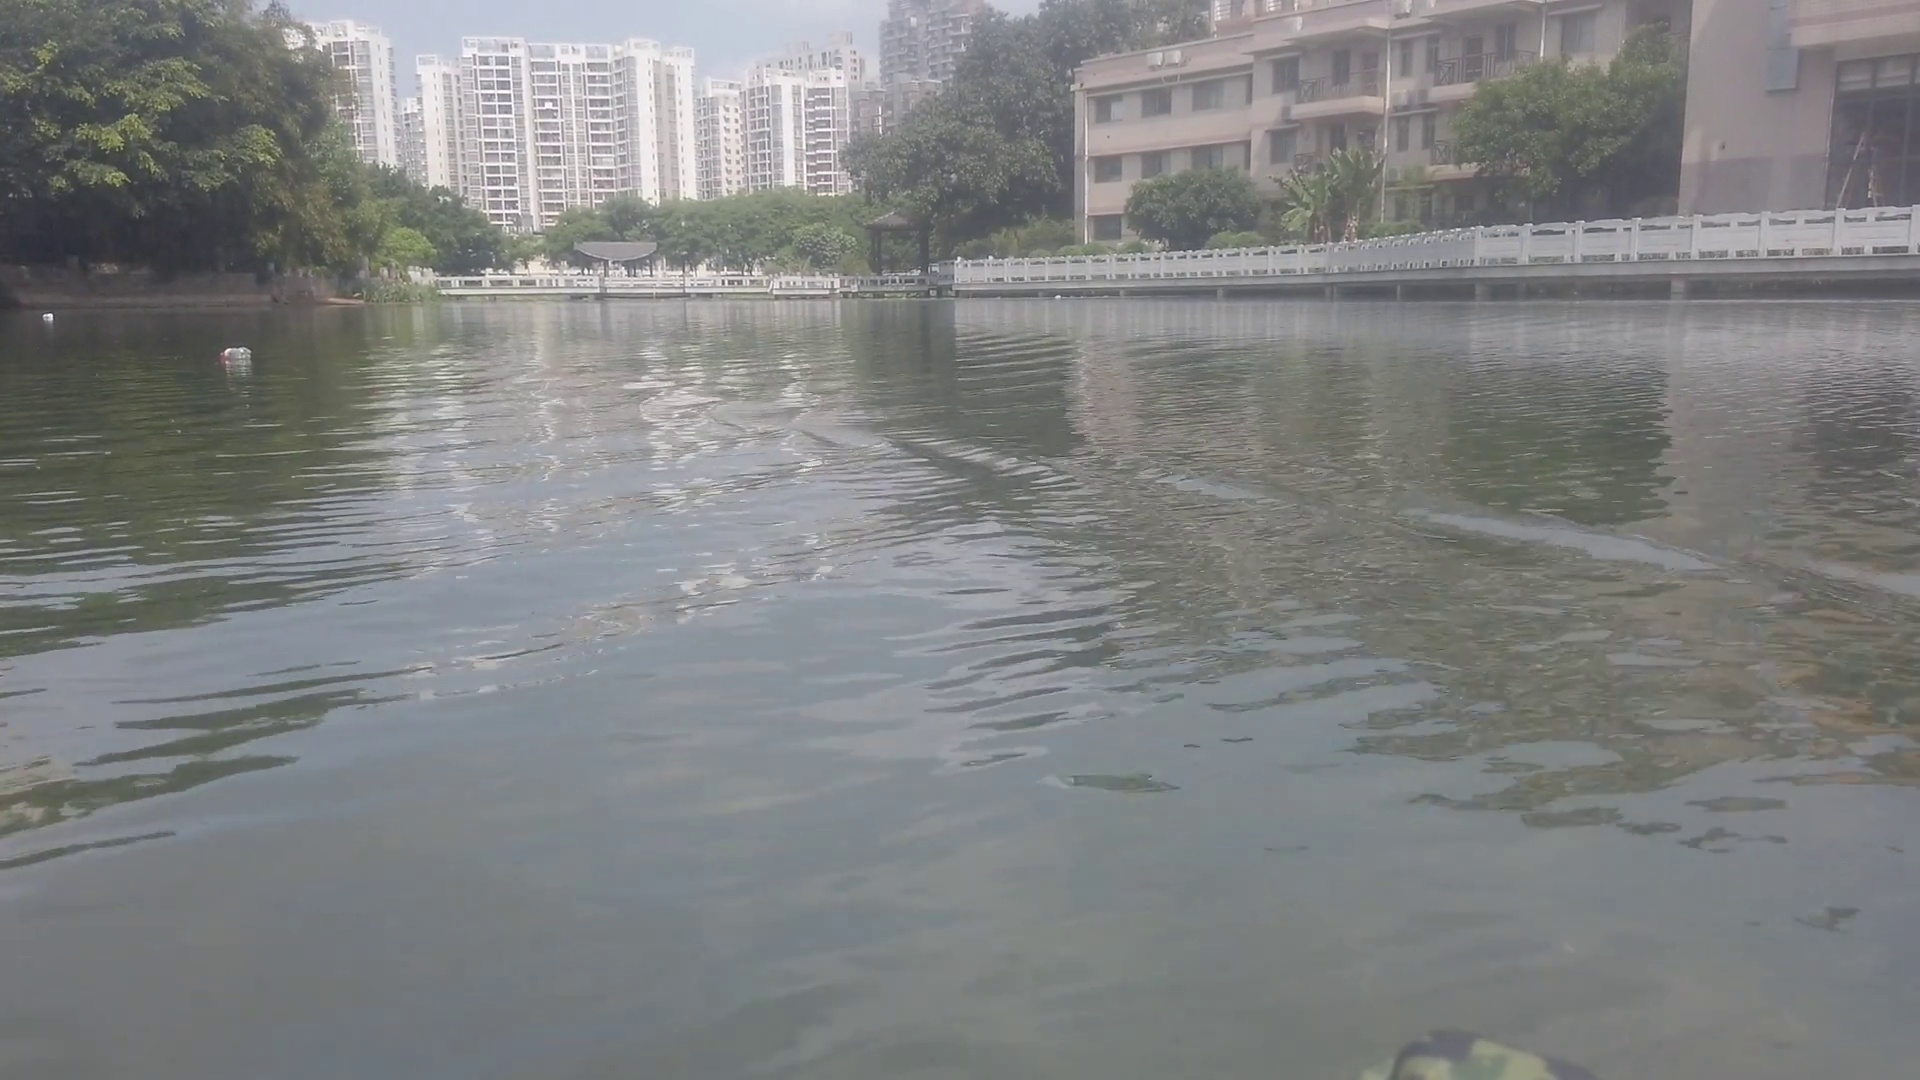bottle: (218, 347, 251, 361)
